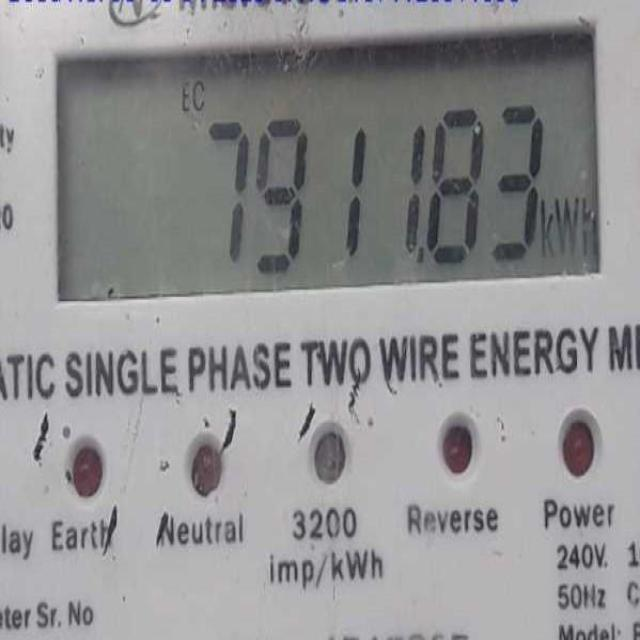1: (321, 113, 375, 273), (382, 117, 428, 265)
3: (488, 102, 551, 267)
7: (206, 111, 252, 278)
8: (425, 100, 489, 271)
9: (251, 113, 313, 280)
Digital meter: (62, 65, 598, 295)
point: (416, 245, 431, 267)
